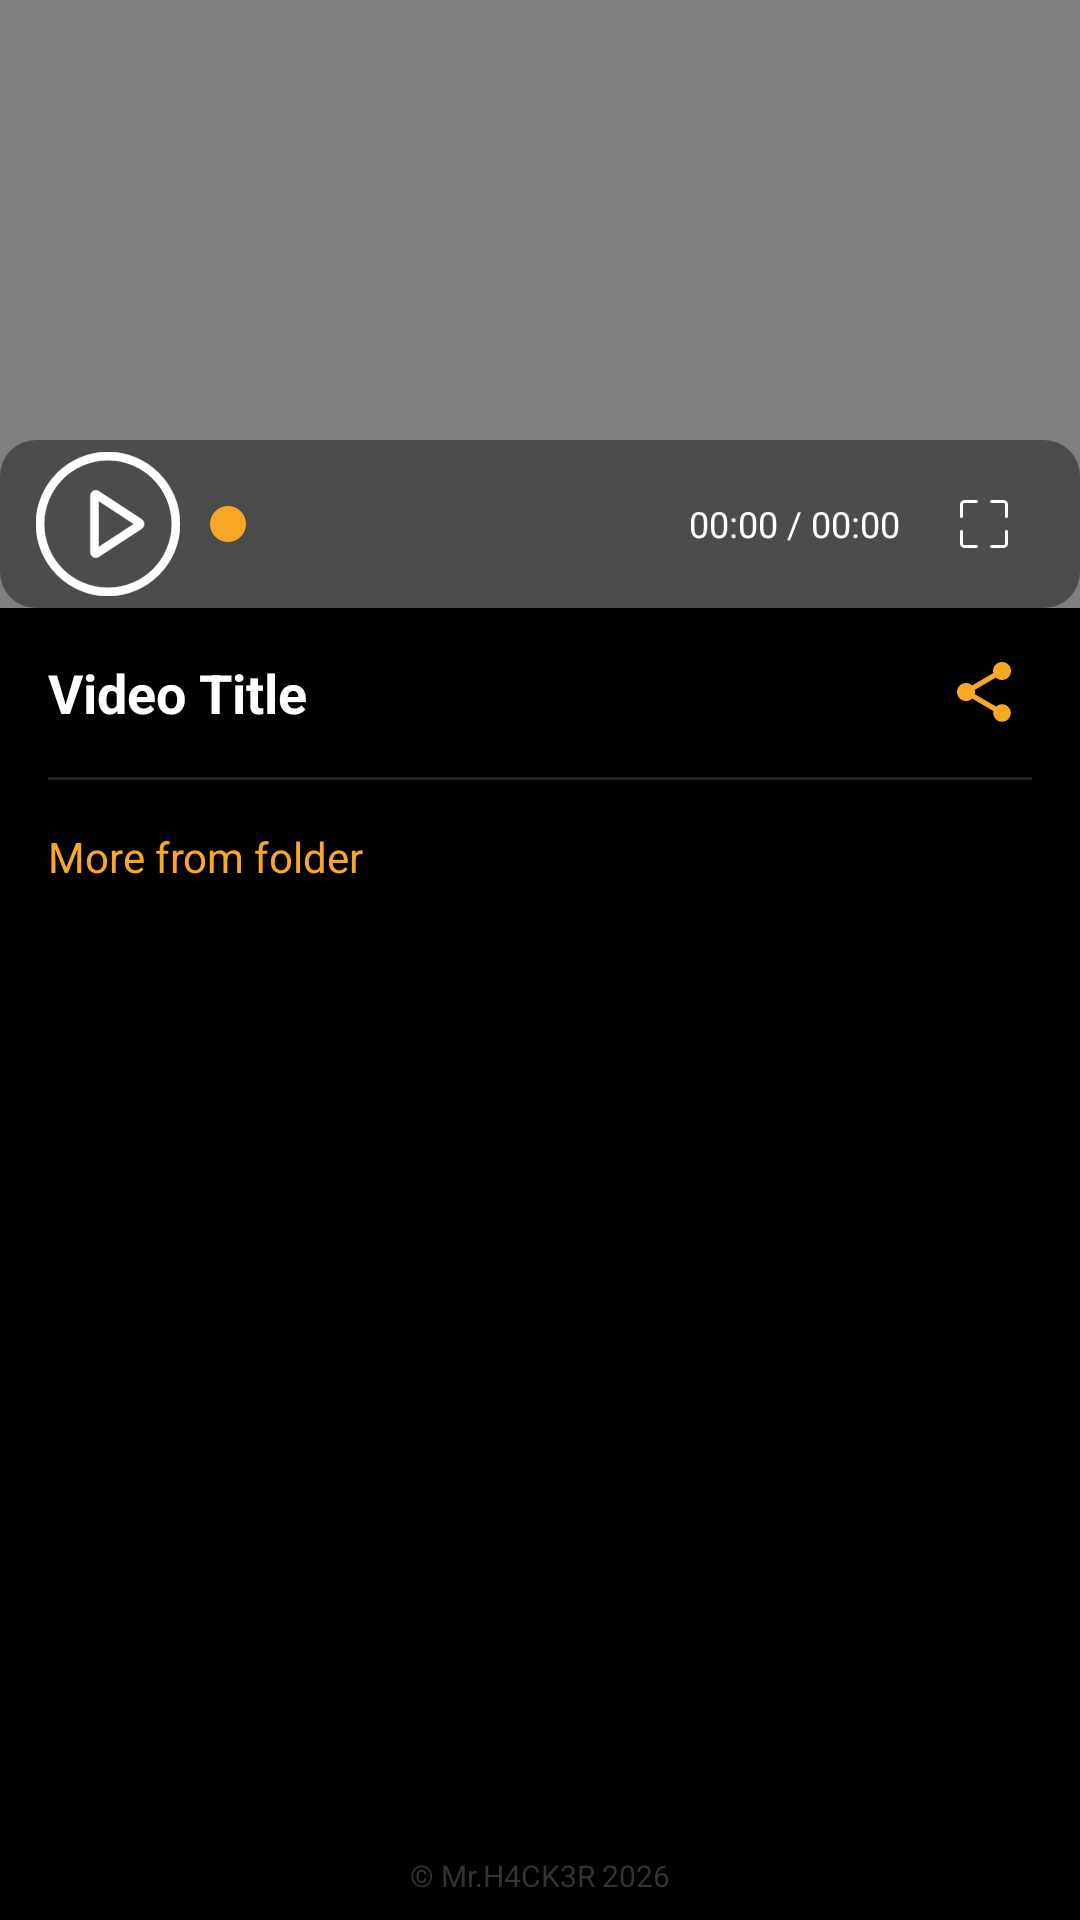

Named icons in this screenshot (1080x1920) and their centers, (x=x, y=y):
fullscreen: (x=984, y=524)
play arrow: (x=108, y=524)
share: (x=984, y=692)
